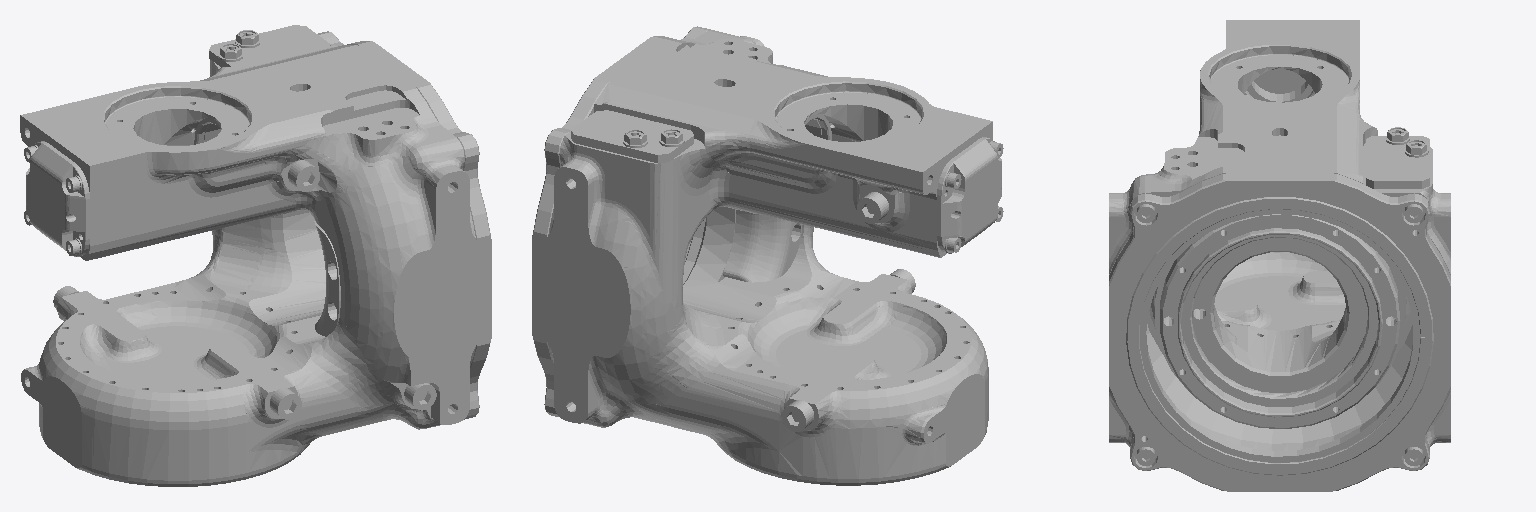
robot.urdf — Motoman_GP25:
<?xml version="1.0" encoding="utf-8"?>
<!-- This URDF was automatically created by SolidWorks to URDF Exporter! Originally created by [author] ([email redacted]) 
     Commit Version: 1.5.1-0-g916b5db  Build Version: 1.5.7152.31018
     For more information, please see http://wiki.ros.org/sw_urdf_exporter -->
<robot
  name="Motoman_GP25">
  <link
    name="base_link">
    <inertial>
      <origin
        xyz="-0.0319149978251271 0.00217544596550133 0.0915880543364595"
        rpy="0 0 0" />
      <mass
        value="9.33243357818767" />
      <inertia
        ixx="0.109802089962328"
        ixy="0.00283752106032472"
        ixz="0.00654259378745936"
        iyy="0.148107090138437"
        iyz="-0.00116078909593089"
        izz="0.224476750981121" />
    </inertial>
    <visual>
      <origin
        xyz="0 0 0"
        rpy="0 0 0" />
      <geometry>
        <mesh
          filename="package://Motoman_GP25/meshes/base_link.STL" />
      </geometry>
      <material
        name="">
        <color
          rgba="0.752941176470588 0.752941176470588 0.752941176470588 1" />
      </material>
    </visual>
    <collision>
      <origin
        xyz="0 0 0"
        rpy="0 0 0" />
      <geometry>
        <mesh
          filename="package://Motoman_GP25/meshes/base_link.STL" />
      </geometry>
    </collision>
  </link>
  <link
    name="S_Link">
    <inertial>
      <origin
        xyz="-0.0380755434147958 0.206665071388565 0.0617656984137868"
        rpy="0 0 0" />
      <mass
        value="15.9588530165512" />
      <inertia
        ixx="0.255292944316114"
        ixy="0.0174448216840004"
        ixz="0.00616993340053127"
        iyy="0.240744400537625"
        iyz="-0.0526013409140016"
        izz="0.217915956834648" />
    </inertial>
    <visual>
      <origin
        xyz="0 0 0"
        rpy="0 0 0" />
      <geometry>
        <mesh
          filename="package://Motoman_GP25/meshes/S_Link.STL" />
      </geometry>
      <material
        name="">
        <color
          rgba="0.752941176470588 0.752941176470588 0.752941176470588 1" />
      </material>
    </visual>
    <collision>
      <origin
        xyz="0 0 0"
        rpy="0 0 0" />
      <geometry>
        <mesh
          filename="package://Motoman_GP25/meshes/S_Link.STL" />
      </geometry>
    </collision>
  </link>
  <joint
    name="S"
    type="revolute">
    <origin
      xyz="0 -0.15075 0"
      rpy="0 -1.5708 0" />
    <parent
      link="base_link" />
    <child
      link="S_Link" />
    <axis
      xyz="0 1 0" />
    <limit
      lower="0"
      upper="3.1416"
      effort="0"
      velocity="0" />
  </joint>
  <link
    name="L_Link">
    <inertial>
      <origin
        xyz="-0.00062167024542592 0.396089506767381 0.0888002695165039"
        rpy="0 0 0" />
      <mass
        value="5.70759123495902" />
      <inertia
        ixx="0.341163414001309"
        ixy="0.00213891346250268"
        ixz="-0.000234748432775255"
        iyy="0.0193608919033307"
        iyz="0.0114467490374037"
        izz="0.353392510236023" />
    </inertial>
    <visual>
      <origin
        xyz="0 0 0"
        rpy="0 0 0" />
      <geometry>
        <mesh
          filename="package://Motoman_GP25/meshes/L_Link.STL" />
      </geometry>
      <material
        name="">
        <color
          rgba="0.752941176470588 0.752941176470588 0.752941176470588 1" />
      </material>
    </visual>
    <collision>
      <origin
        xyz="0 0 0"
        rpy="0 0 0" />
      <geometry>
        <mesh
          filename="package://Motoman_GP25/meshes/L_Link.STL" />
      </geometry>
    </collision>
  </link>
  <joint
    name="L"
    type="continuous">
    <origin
      xyz="0.15 -0.505 -0.062998"
      rpy="3.1416 0 0" />
    <parent
      link="base_link" />
    <child
      link="L_Link" />
    <axis
      xyz="0 0 1" />
  </joint>
  <link
    name="U_Link">
    <inertial>
      <origin
        xyz="-0.0966401329084385 0.026110449230515 0.0938805023471361"
        rpy="0 0 0" />
      <mass
        value="7.45427660382808" />
      <inertia
        ixx="0.0530025667071174"
        ixy="0.000386850947829863"
        ixz="0.0280366965681017"
        iyy="0.0879358021221802"
        iyz="-0.00132786474095653"
        izz="0.0581064716045867" />
    </inertial>
    <visual>
      <origin
        xyz="0 0 0"
        rpy="0 0 0" />
      <geometry>
        <mesh
          filename="package://Motoman_GP25/meshes/U_Link.STL" />
      </geometry>
      <material
        name="">
        <color
          rgba="0.752941176470588 0.752941176470588 0.752941176470588 1" />
      </material>
    </visual>
    <collision>
      <origin
        xyz="0 0 0"
        rpy="0 0 0" />
      <geometry>
        <mesh
          filename="package://Motoman_GP25/meshes/U_Link.STL" />
      </geometry>
    </collision>
  </link>
  <joint
    name="U"
    type="continuous">
    <origin
      xyz="0.15 -1.265 0"
      rpy="-1.5708 0 3.1416" />
    <parent
      link="base_link" />
    <child
      link="U_Link" />
    <axis
      xyz="0 1 0" />
  </joint>
  <link
    name="R_Link">
    <inertial>
      <origin
        xyz="0.290119003886997 -0.000403943301210545 0.0258623122365105"
        rpy="0 0 0" />
      <mass
        value="4.01375967312329" />
      <inertia
        ixx="0.0130921856774786"
        ixy="-0.000317327796934653"
        ixz="0.00275401335398748"
        iyy="0.0782866282827436"
        iyz="-0.000368105665471494"
        izz="0.0768711343921634" />
    </inertial>
    <visual>
      <origin
        xyz="0 0 0"
        rpy="0 0 0" />
      <geometry>
        <mesh
          filename="package://Motoman_GP25/meshes/R_Link.STL" />
      </geometry>
      <material
        name="">
        <color
          rgba="0.752941176470588 0.752941176470588 0.752941176470588 1" />
      </material>
    </visual>
    <collision>
      <origin
        xyz="0 0 0"
        rpy="0 0 0" />
      <geometry>
        <mesh
          filename="package://Motoman_GP25/meshes/R_Link.STL" />
      </geometry>
    </collision>
  </link>
  <joint
    name="R"
    type="continuous">
    <origin
      xyz="0.37498 -1.465 0"
      rpy="1.5708 0 -3.1833E-05" />
    <parent
      link="base_link" />
    <child
      link="R_Link" />
    <axis
      xyz="1 0 0" />
  </joint>
  <link
    name="B_Link">
    <inertial>
      <origin
        xyz="0.0238001365322172 0.0181989295507371 0.000562120322474158"
        rpy="0 0 0" />
      <mass
        value="2.43378492894679" />
      <inertia
        ixx="0.00425537610433691"
        ixy="-1.34625306615931E-05"
        ixz="4.74640234679341E-07"
        iyy="0.0041236918248025"
        iyz="5.72018051761124E-05"
        izz="0.00426589899884815" />
    </inertial>
    <visual>
      <origin
        xyz="0 0 0"
        rpy="0 0 0" />
      <geometry>
        <mesh
          filename="package://Motoman_GP25/meshes/B_Link.STL" />
      </geometry>
      <material
        name="">
        <color
          rgba="0.752941176470588 0.752941176470588 0.752941176470588 1" />
      </material>
    </visual>
    <collision>
      <origin
        xyz="0 0 0"
        rpy="0 0 0" />
      <geometry>
        <mesh
          filename="package://Motoman_GP25/meshes/B_Link.STL" />
      </geometry>
    </collision>
  </link>
  <joint
    name="B"
    type="continuous">
    <origin
      xyz="0.94499 -1.465 0"
      rpy="-1.5708 0 -3.1833E-05" />
    <parent
      link="base_link" />
    <child
      link="B_Link" />
    <axis
      xyz="0 1 0" />
  </joint>
  <link
    name="T_Link">
    <inertial>
      <origin
        xyz="0.0127358542673286 -3.83325724875316E-05 -1.89676785018473E-09"
        rpy="0 0 0" />
      <mass
        value="0.618266430442472" />
      <inertia
        ixx="0.00109254006084294"
        ixy="1.28178283791903E-07"
        ixz="3.47035988338485E-09"
        iyy="0.000569735260526465"
        iyz="-6.01170536362219E-06"
        izz="0.000560438271241415" />
    </inertial>
    <visual>
      <origin
        xyz="0 0 0"
        rpy="0 0 0" />
      <geometry>
        <mesh
          filename="package://Motoman_GP25/meshes/T_Link.STL" />
      </geometry>
      <material
        name="">
        <color
          rgba="0.831372549019608 0.670588235294118 0.129411764705882 1" />
      </material>
    </visual>
    <collision>
      <origin
        xyz="0 0 0"
        rpy="0 0 0" />
      <geometry>
        <mesh
          filename="package://Motoman_GP25/meshes/T_Link.STL" />
      </geometry>
    </collision>
  </link>
  <joint
    name="T"
    type="continuous">
    <origin
      xyz="1.01948460335399 -1.46502767837944 0"
      rpy="3.14159265358979 0 -3.18329709312806E-05" />
    <parent
      link="base_link" />
    <child
      link="T_Link" />
    <axis
      xyz="1 0 0" />
  </joint>
</robot>

--- Facts derived from the render (not from the file) ---
3 views of the same robot in one strip: view 1: azimuth 30°, elevation 25°; view 2: azimuth 150°, elevation 25°; view 3: azimuth 270°, elevation 25° (orthographic).
Model Motoman_GP25 with 7 links and 6 joints (1 revolute, 5 continuous), rooted at base_link, posed every joint at zero.
Links seen in each view (by area): view 1: B_Link; view 2: B_Link; view 3: B_Link.
Link boxes in pixels (x1=…): B_Link: x1=20, y1=25, x2=491, y2=486; B_Link: x1=532, y1=26, x2=1003, y2=485; B_Link: x1=1109, y1=20, x2=1450, y2=491.
Bounding box of the posed robot: 0.1488 × 0.128 × 0.137 m (x, y, z).
1 mesh visuals loaded from 7 distinct referenced files (1 binary STL); not drawn: 6 (reference not matched to a file when rendering).